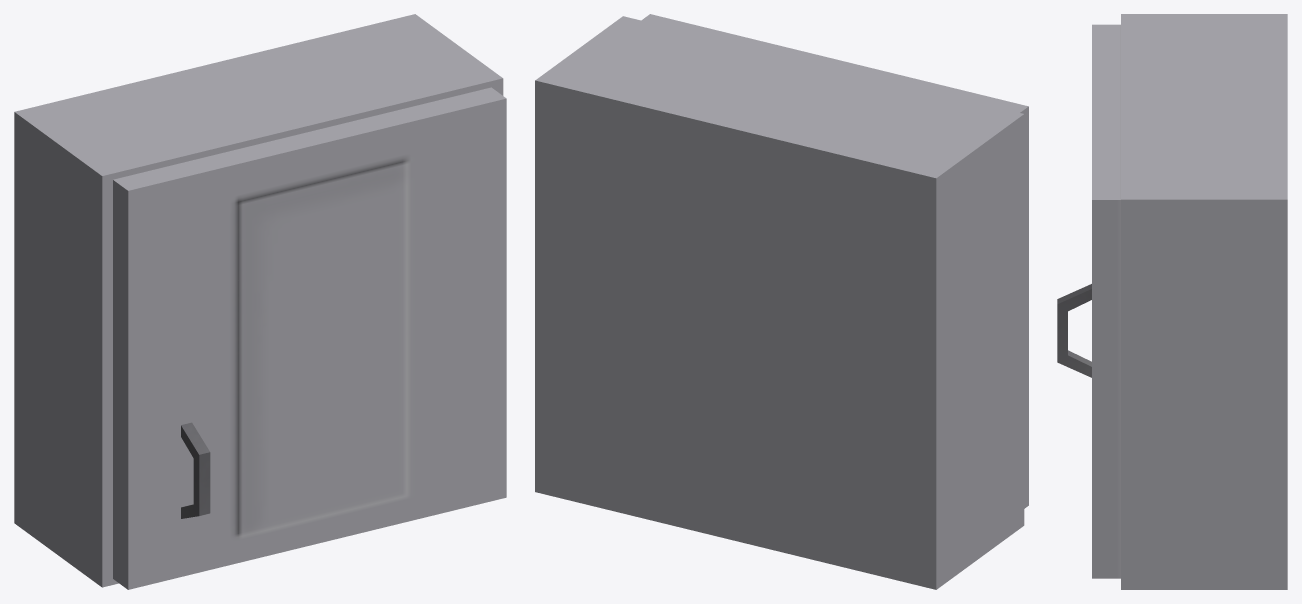
Rendered from Cupboard_4_2.fbx.
3 renders of one model, left to right at view 1: azimuth 30°, elevation 25°; view 2: azimuth 150°, elevation 25°; view 3: azimuth 270°, elevation 25°, orthographic. The views are drawn at different scales.
Parts seen in each view (by area): view 1: polySurface1569; view 2: polySurface1569; view 3: polySurface1569.
Part boxes in pixels (x1=…): polySurface1569: x1=14, y1=14, x2=506, y2=589; polySurface1569: x1=535, y1=14, x2=1028, y2=589; polySurface1569: x1=1057, y1=14, x2=1287, y2=589.
Size of the model in its own units: 0.918 by 0.9 by 0.4813.
